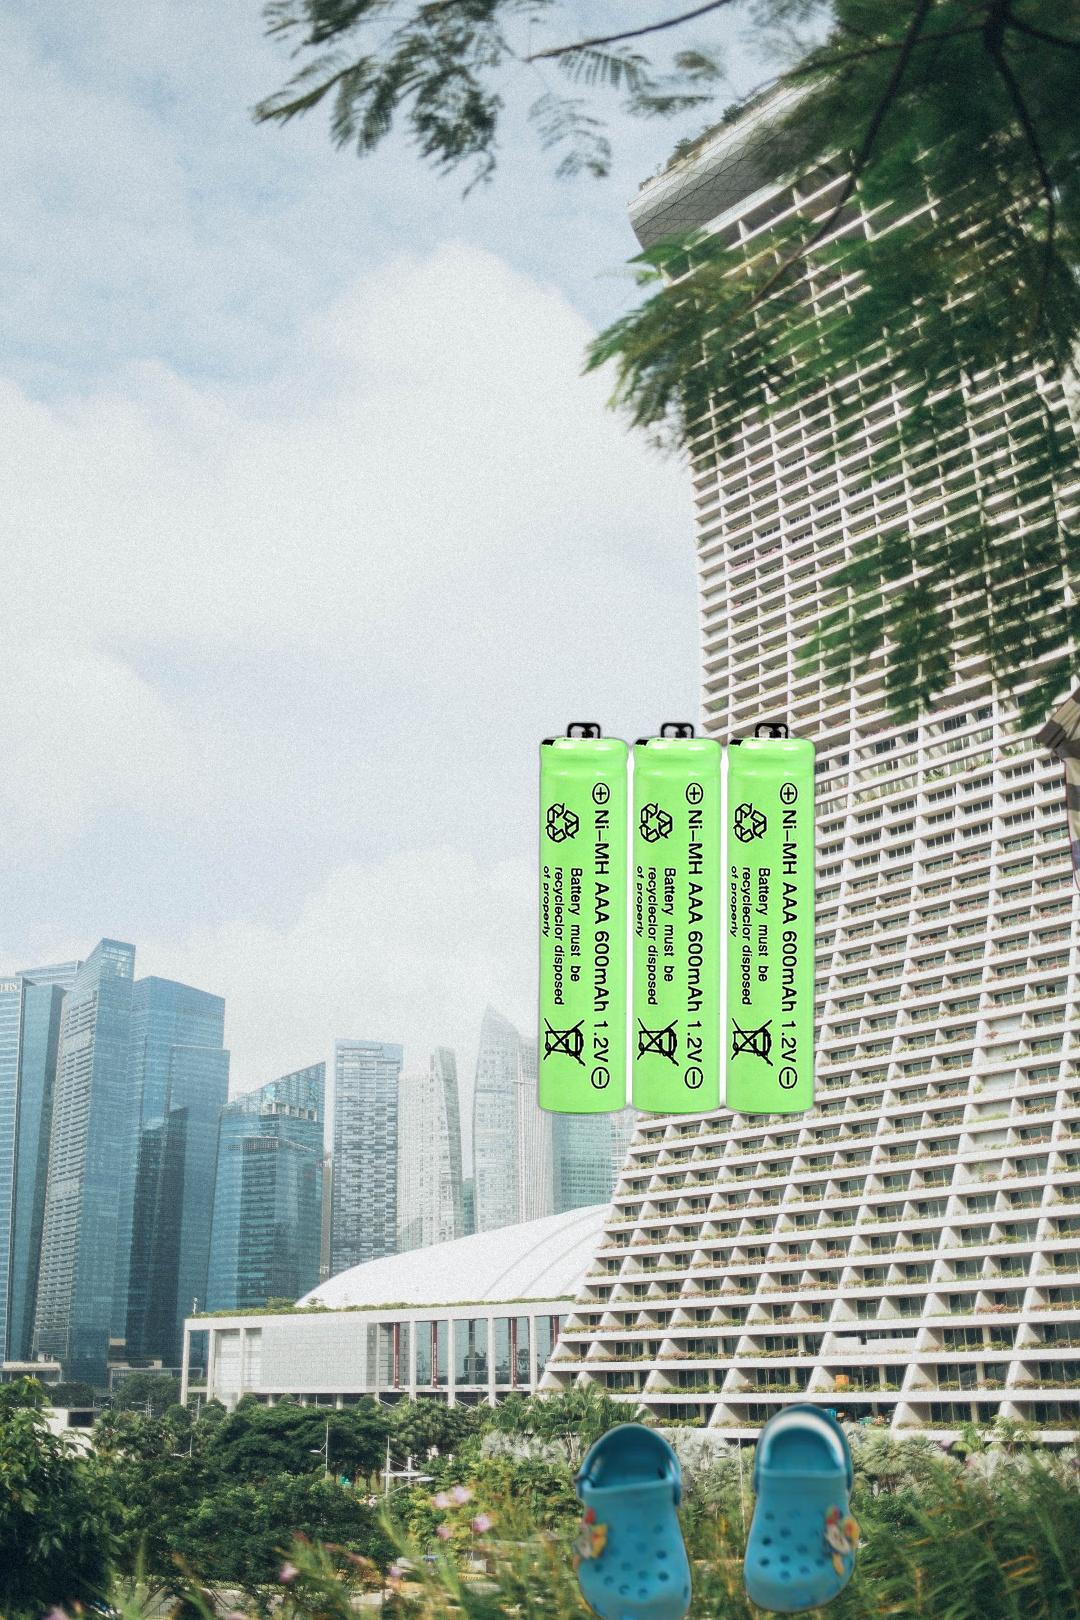battery: (532, 716, 821, 1120)
clothes: (1032, 583, 1080, 947)
shoes: (567, 1398, 865, 1620)
